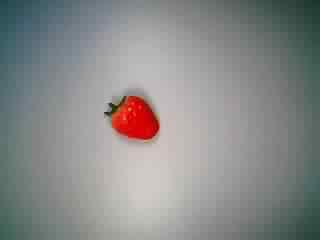strawberry: (103, 85, 171, 149)
